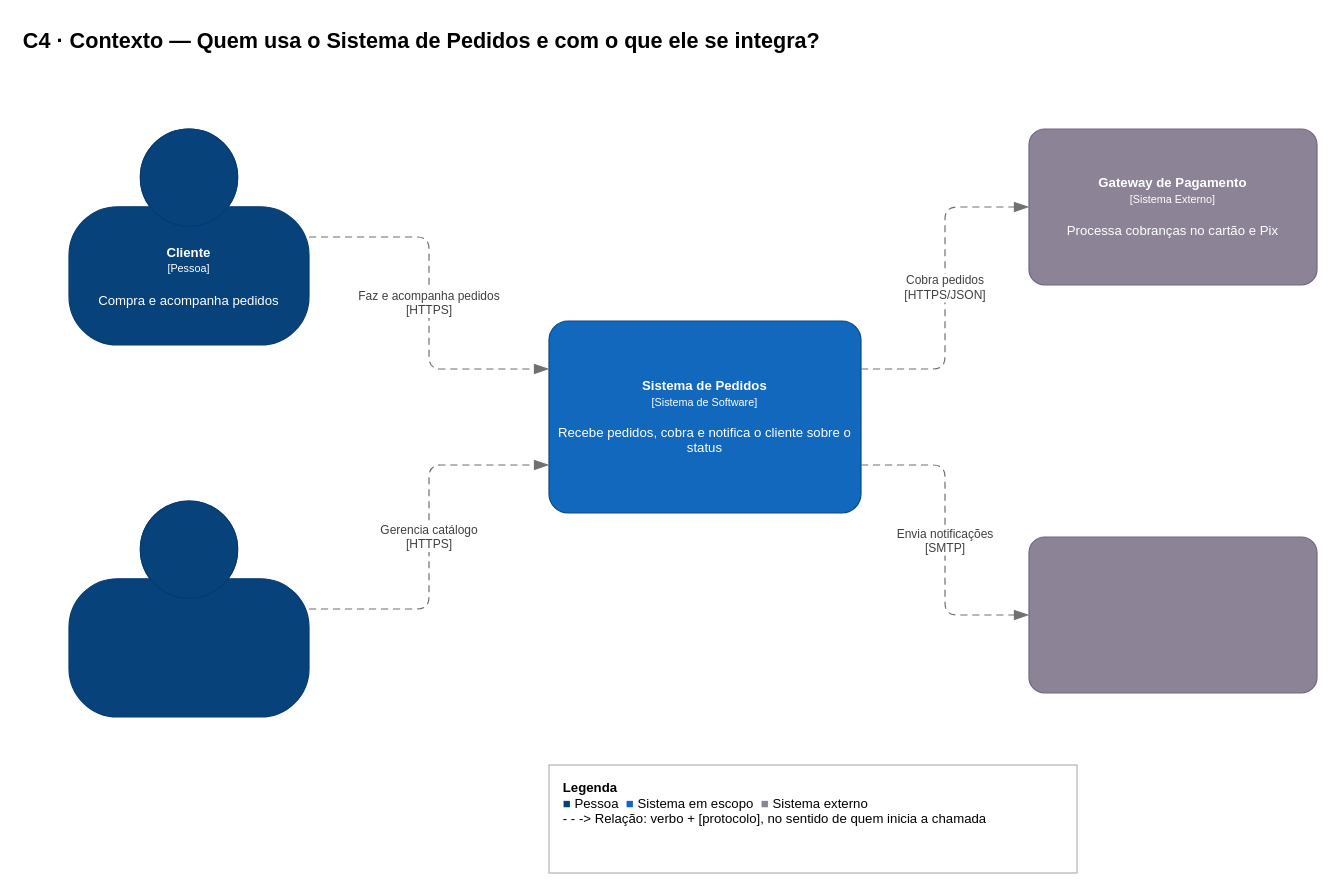
Some shapes in this 1338 by 894 pixel diagram are drawn without their labels. Each missing label, with the centre of its shape:
Administrador [Pessoa] Gerencia catálogo e acompanha vendas: point (188, 608)
Provedor de E-mail [Sistema Externo] Entrega e-mails transacionais: point (1172, 614)
